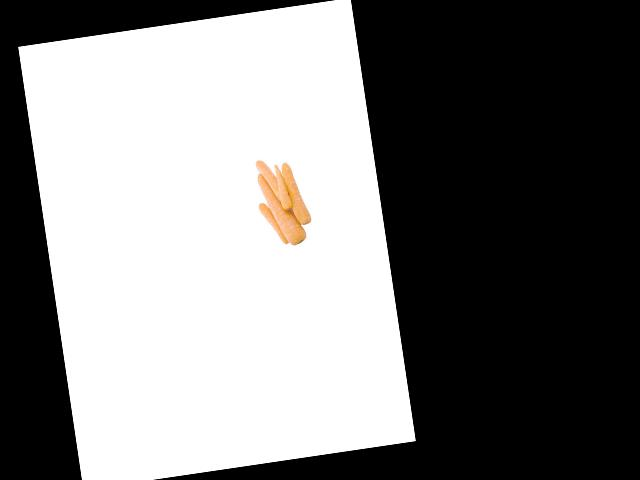carrot: (283, 157, 309, 229)
